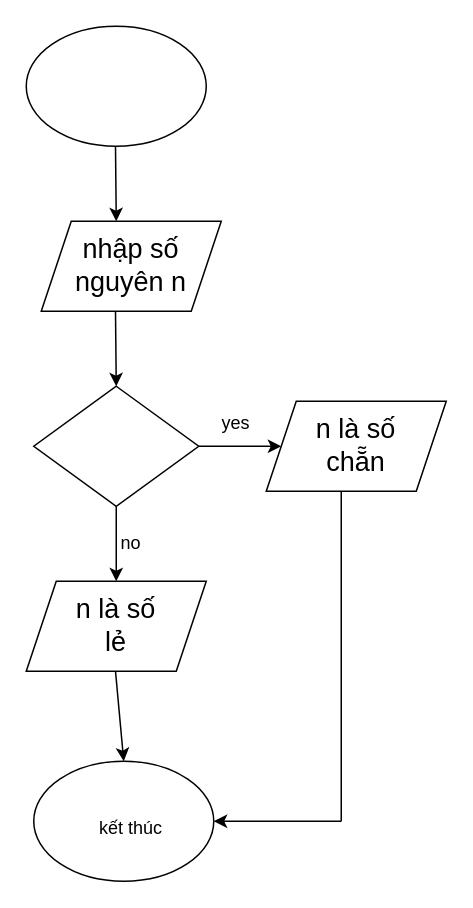
The diagram is 473 pixels wide and 908 high, and some of its shapes have lost their labels. The shapes that lost their labels are listed below. From the top down, each one's centre as x and y in pixels, then its label:
At pixel 115 85: "bắt đầu".
At pixel 115 445: "n chia hết cho 2".
